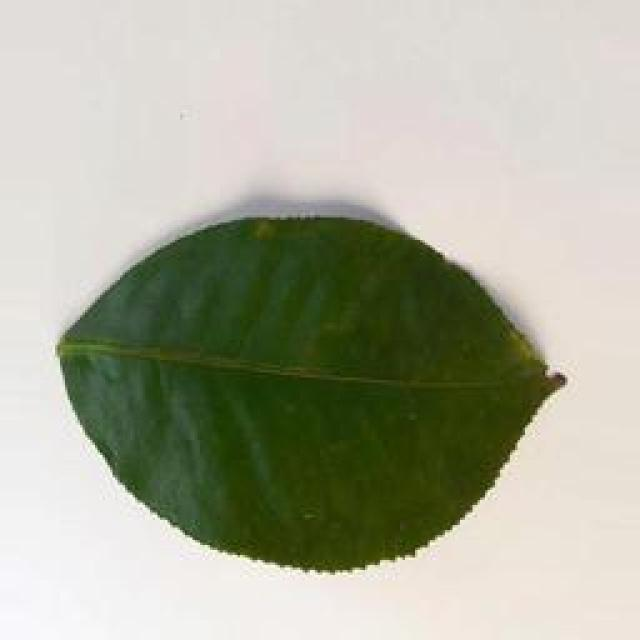Healthy: (60, 208, 569, 576)
